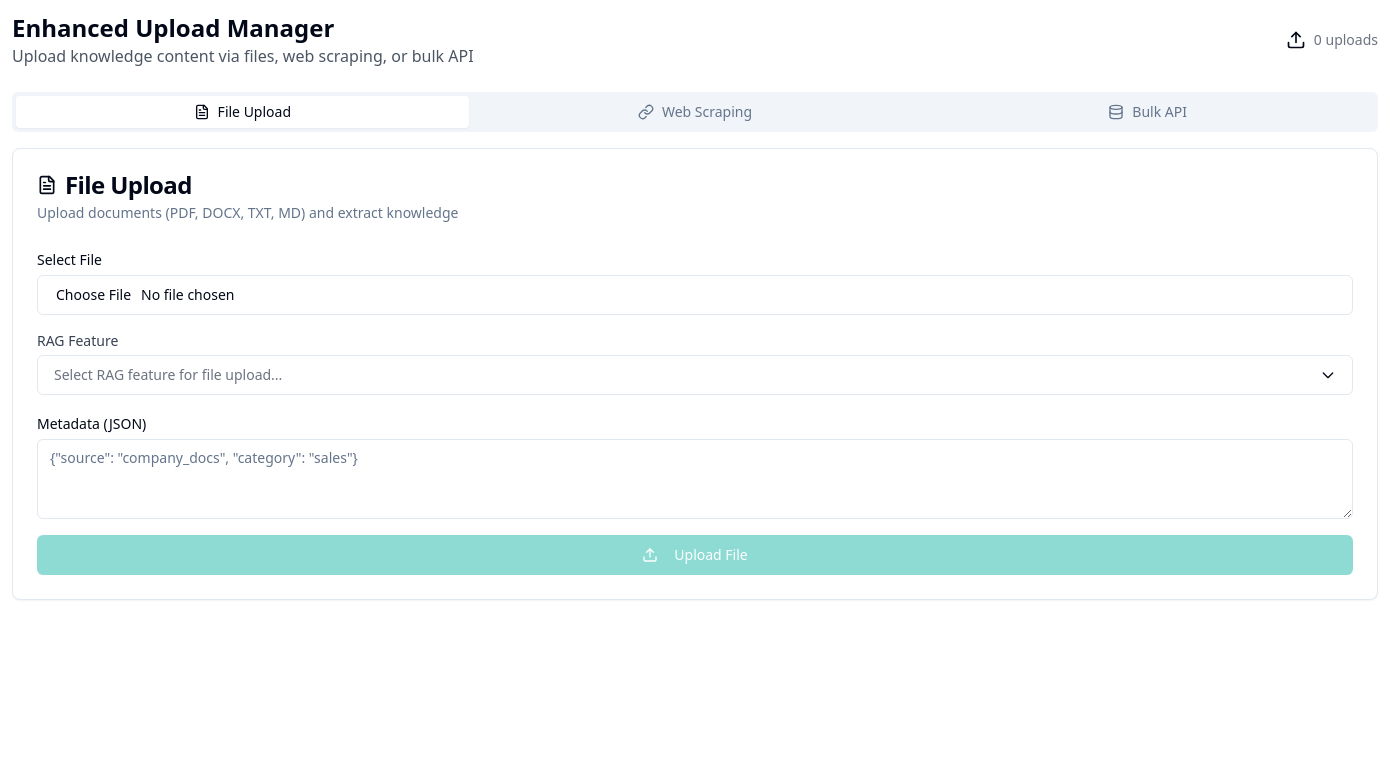
Scenario: EnhancedUploadManager › shows web scraping form in web tab
The width and height of the screenshot is (1390, 780).
// Switch to web tab (use first element to avoid ambiguity)
Click the tab "Web Scraping".
click(695, 112)  # box [469,96,921,128]
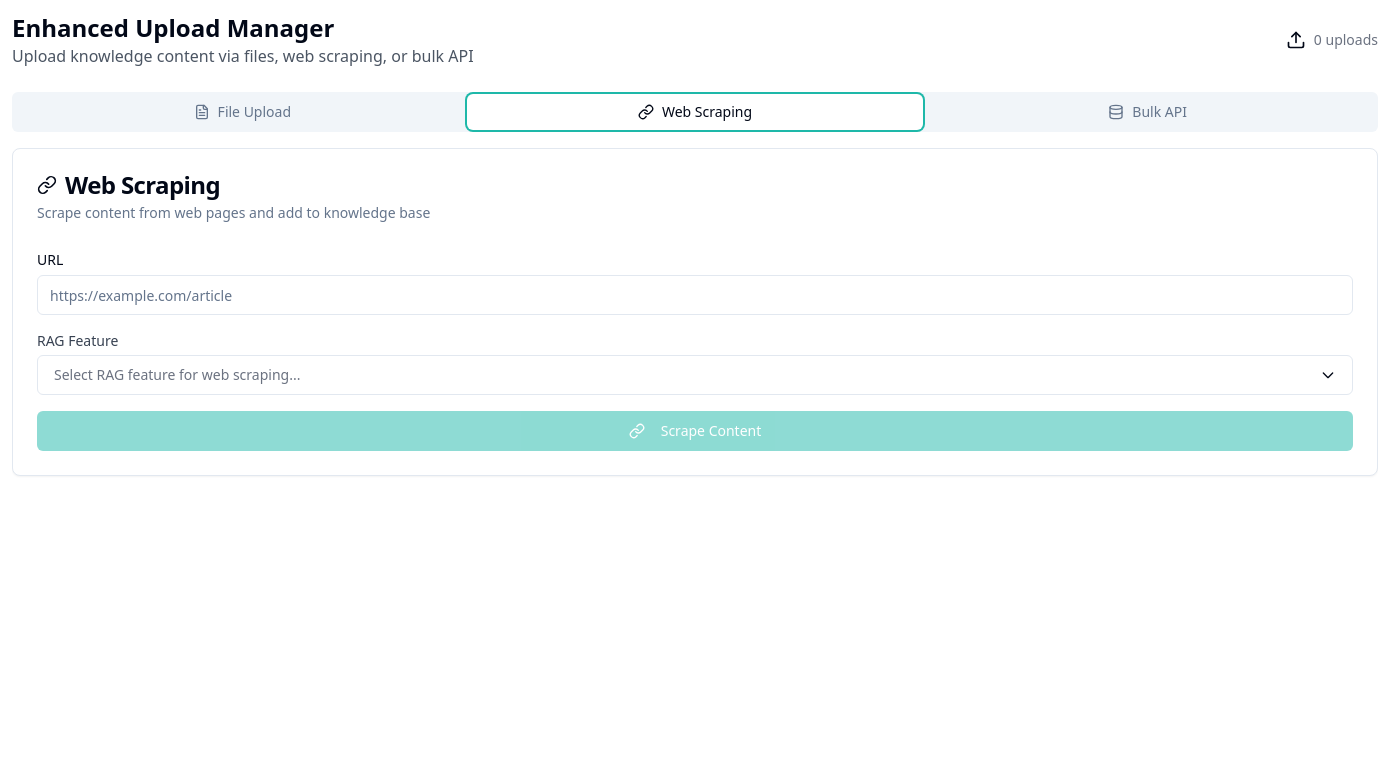
Expected: the field with placeholder "https://example.com/article" is shown, [37,275,1353,315]
